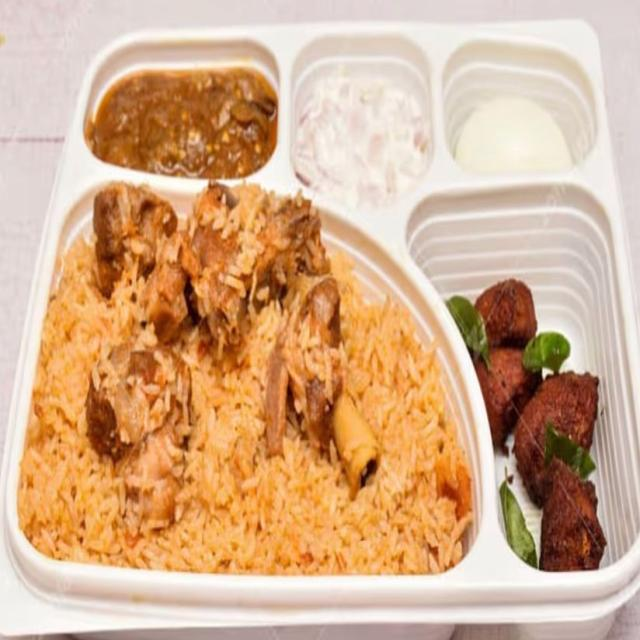BIRIYANI: (13, 183, 479, 589)
CHICKEN FRY: (416, 234, 617, 570)
CURD: (292, 58, 437, 216)
CURRY: (86, 57, 280, 180)
EGG: (450, 57, 602, 182)
